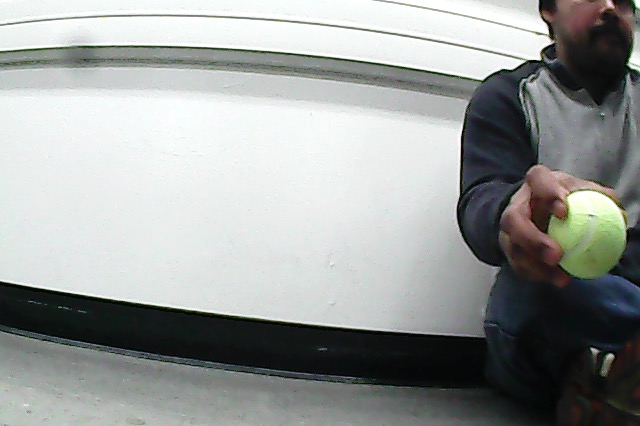ball: (545, 189, 630, 282)
